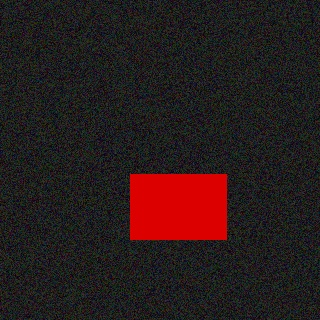red_barrel: (131, 174, 226, 239)
